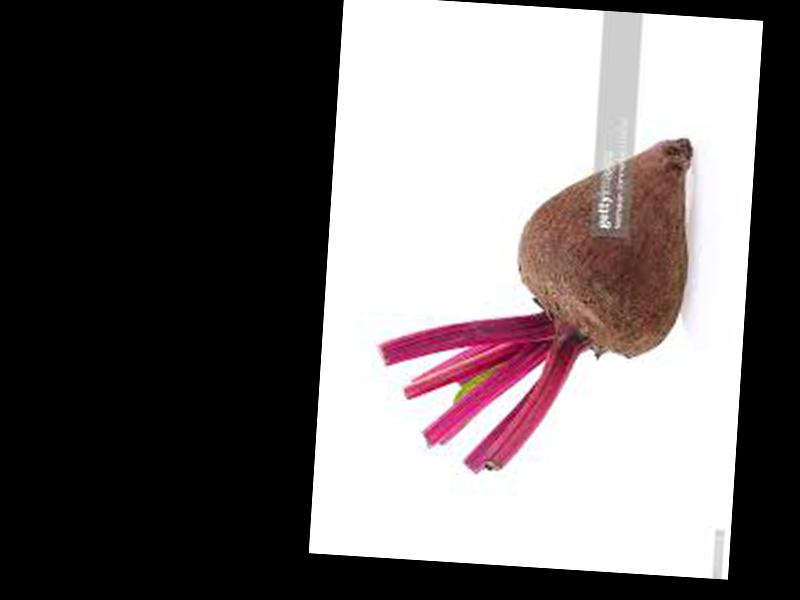Beet: (372, 119, 694, 485)
